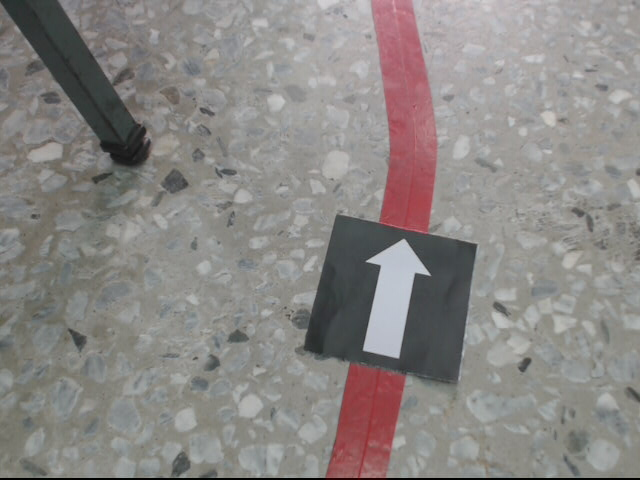straight: (305, 211, 483, 387)
